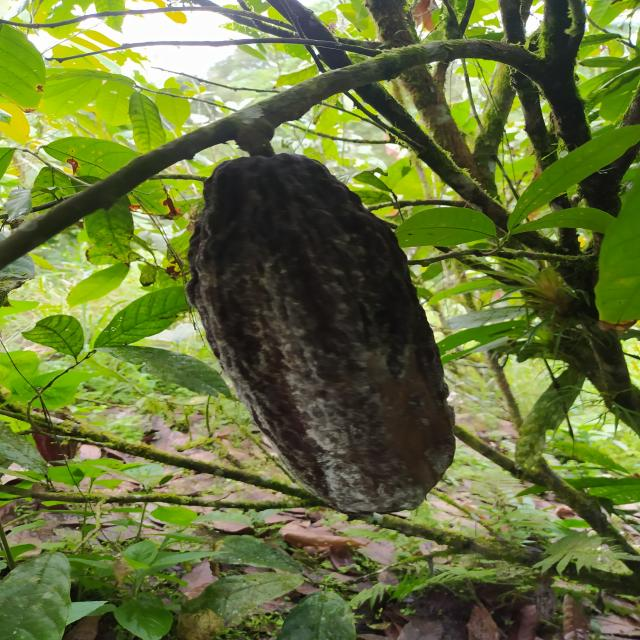Fitoftora: (182, 152, 458, 514)
